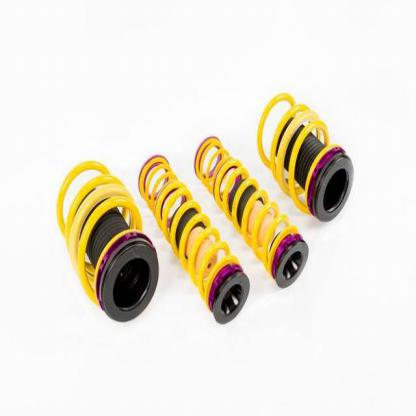FOD: (137, 154, 251, 327), (192, 133, 310, 293), (57, 156, 161, 324), (255, 90, 356, 224)
